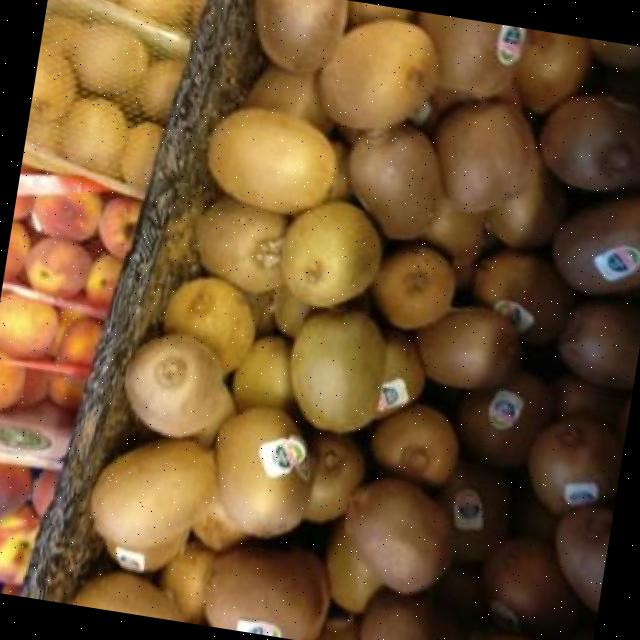kiwi: (90, 439, 216, 551), (207, 110, 334, 214), (318, 20, 437, 127), (343, 478, 451, 594), (215, 407, 307, 537), (290, 311, 385, 432), (205, 548, 329, 640), (434, 103, 536, 212), (281, 201, 381, 308), (349, 126, 442, 235), (124, 335, 221, 437), (538, 96, 640, 191), (418, 12, 526, 99), (471, 250, 572, 343), (456, 371, 552, 467), (527, 419, 622, 514), (163, 277, 255, 372), (552, 195, 640, 294), (195, 197, 283, 293), (482, 540, 575, 630), (415, 308, 516, 387), (484, 152, 565, 247), (557, 303, 640, 388), (370, 405, 458, 485), (438, 463, 507, 561), (372, 247, 454, 329), (255, 0, 346, 73), (514, 29, 588, 113), (554, 508, 613, 612), (304, 435, 363, 523), (245, 68, 325, 129), (325, 526, 380, 613), (359, 595, 462, 640), (231, 336, 292, 410), (71, 581, 183, 620), (376, 334, 424, 418), (160, 545, 214, 619), (422, 197, 482, 256), (105, 531, 189, 572)
